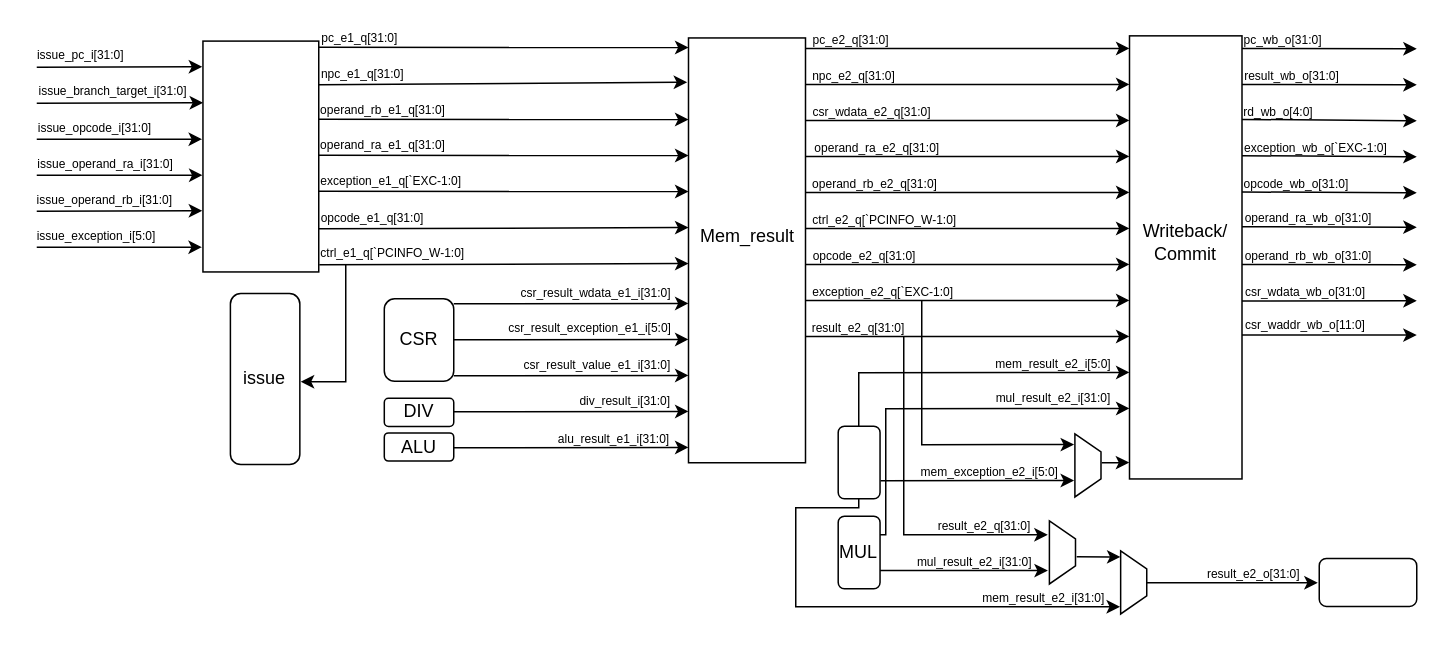
This 1455x645 diagram has some shape labels left out. Each missing label, with the centre of its shape:
"address" belongs at (260,156).
"Bypass" belongs at (1367,581).
"LSU" belongs at (858,462).
